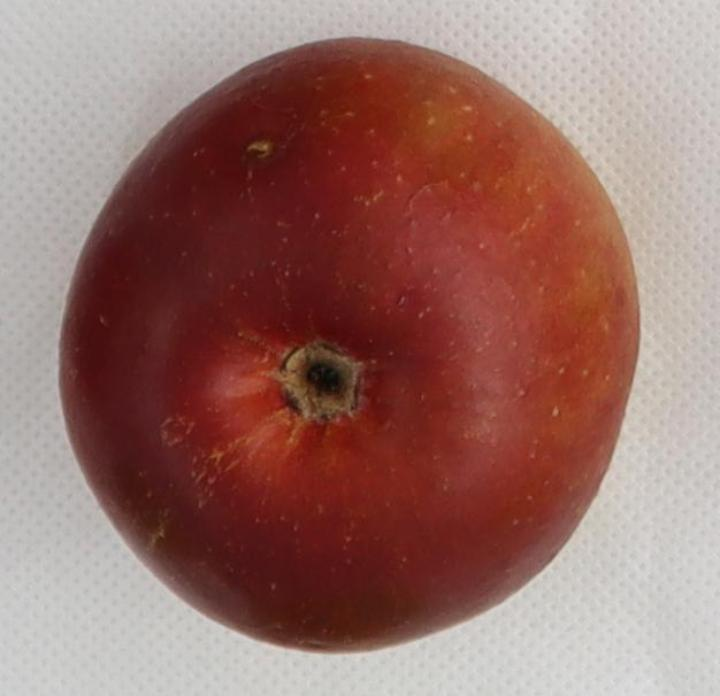apple: (60, 39, 638, 651)
surface_damage: (246, 139, 274, 161)
